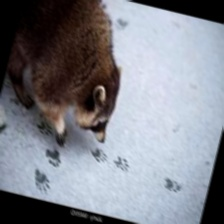raccoon: (28, 166, 55, 195), (84, 142, 111, 168), (111, 153, 137, 174)
